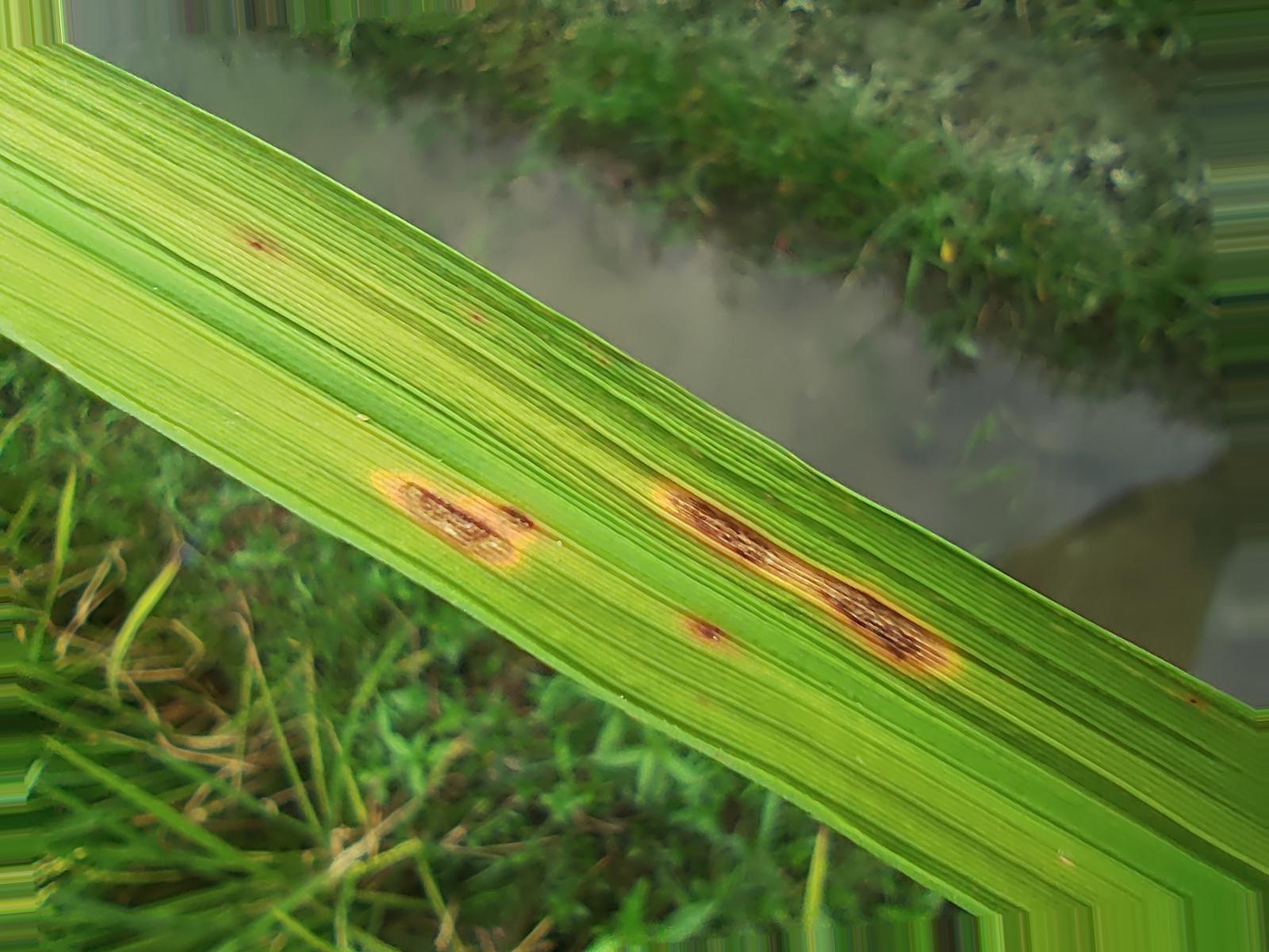LEAF: (2, 48, 1268, 925)
NBS: (231, 223, 280, 266), (1185, 693, 1203, 708), (469, 311, 484, 326)
